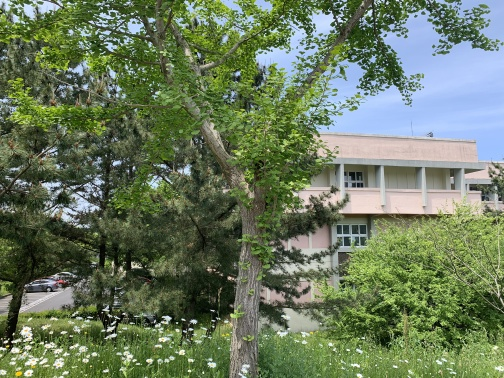College Of Education: (276, 126, 502, 322)
